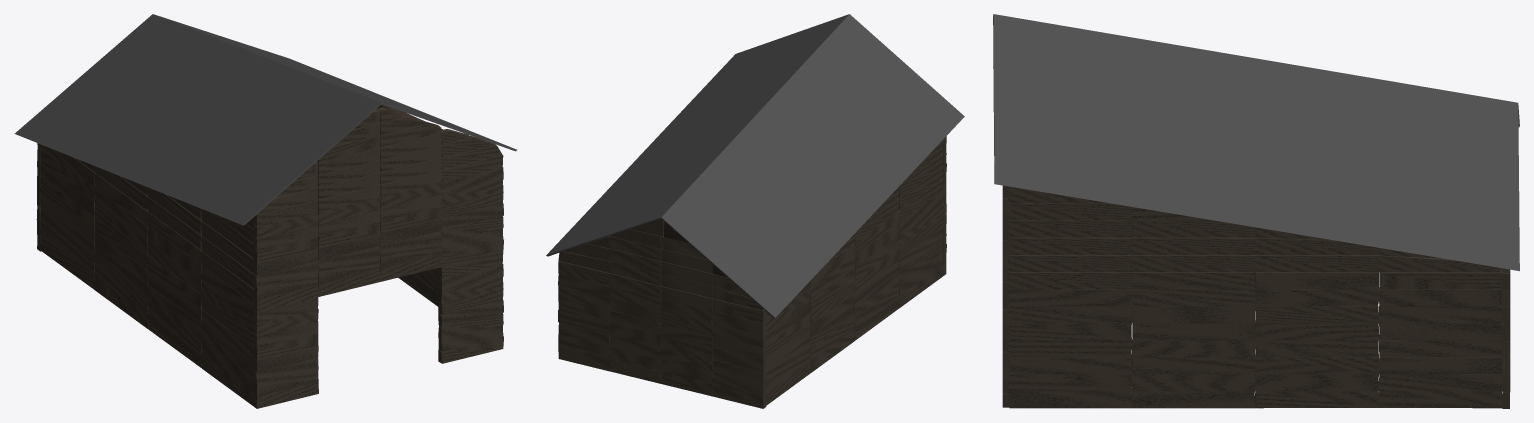
The model's file is mezarl_kulube_2.fbx.
3 renders of one model, left to right at view 1: azimuth 30°, elevation 25°; view 2: azimuth 150°, elevation 25°; view 3: azimuth 270°, elevation 25°, orthographic. The views are drawn at different scales.
Visible parts, largest first — view 1: Cube.003, Plane, Cube.004, Cube.001; view 2: Plane, Cube.002, Cube.004, Cube.003; view 3: Cube.001, Plane, Cube.003, Cube.002.
Boxes of the visible parts, x1,y1,x2,y2 form: Cube.003: (253, 107, 503, 408); Plane: (14, 14, 516, 225); Cube.004: (40, 144, 255, 405); Cube.001: (377, 104, 442, 306); Plane: (546, 14, 964, 318); Cube.002: (558, 218, 766, 408); Cube.004: (766, 140, 944, 405); Cube.003: (943, 136, 946, 275); Cube.001: (1007, 186, 1502, 408); Plane: (993, 14, 1519, 271); Cube.003: (1002, 185, 1010, 407); Cube.002: (1502, 268, 1510, 408).
Bounding box in the file's own units: 455 × 444 × 653.
